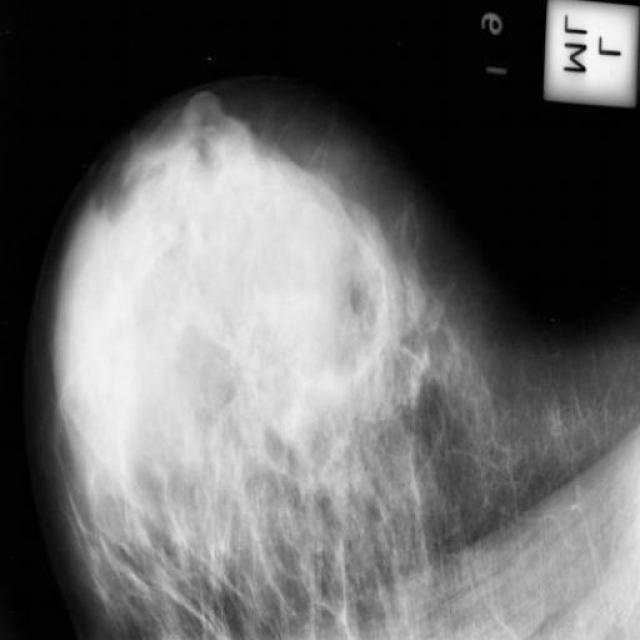cancer: (373, 316, 419, 374)
